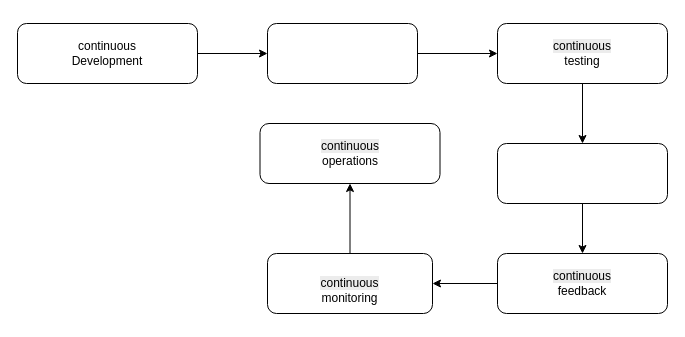
Image size: 685x337. Some labels were removed from this diagram. Here are the shapes that lost their labels. From the top down, the centre of each, then its label:
At (x=342, y=53): "continuous integration".
At (x=582, y=173): "continuous Delivery".
